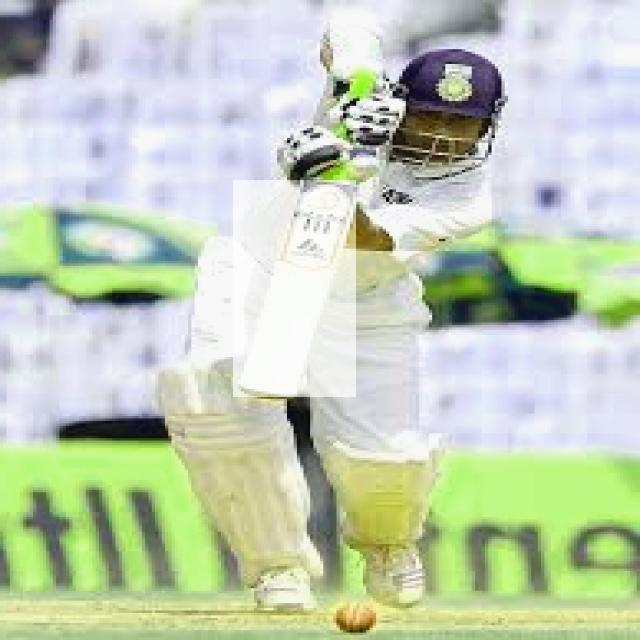bat: (231, 180, 358, 399)
toe: (240, 385, 298, 396)
